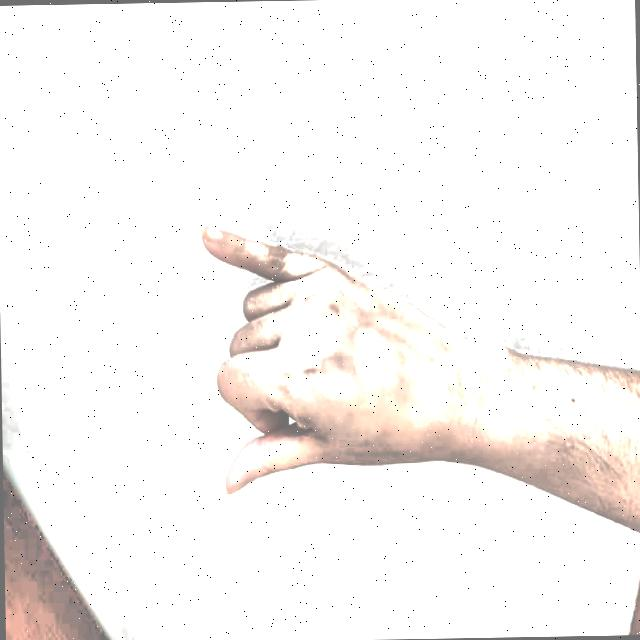Oi: (176, 178, 484, 534)
